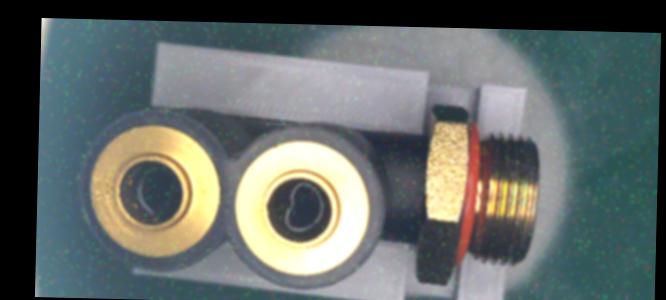off-centered: (273, 178, 325, 234), (131, 167, 184, 217)
